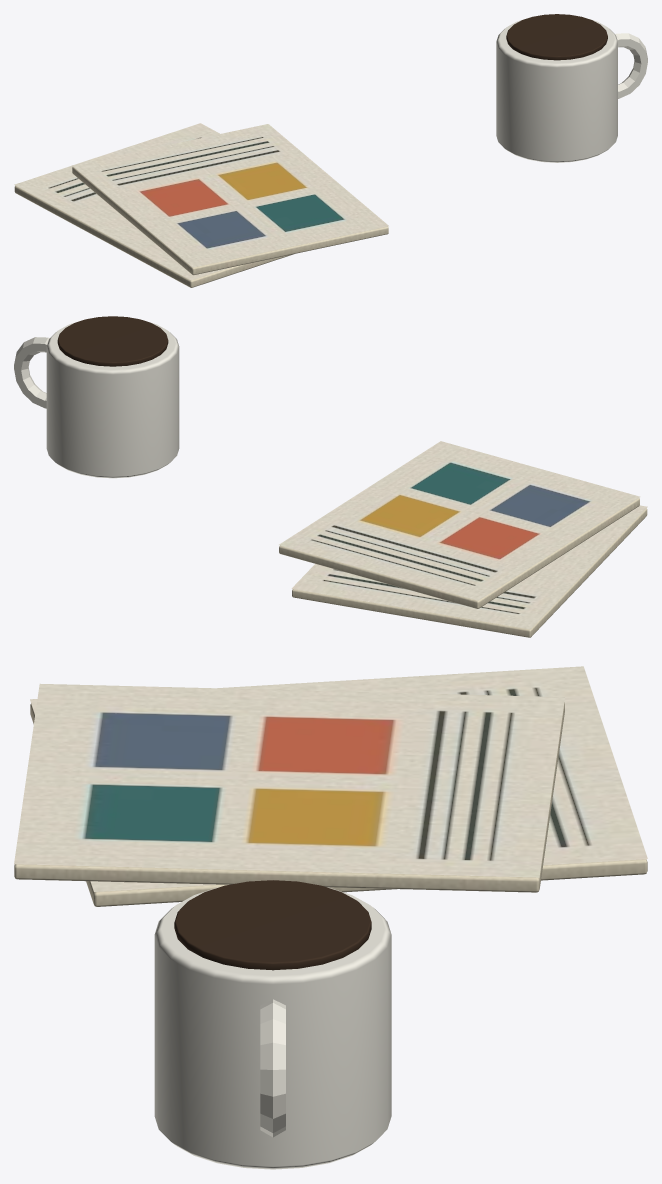
Rendered from coffee-table-dressed-v1.glb.
The picture shows the model from 3 angles, top to bottom: view 1: azimuth 30°, elevation 25°; view 2: azimuth 150°, elevation 25°; view 3: azimuth 270°, elevation 25°; orthographic projection. The views are drawn at different scales.
Visible parts, largest first — view 1: Printed stock edge; view 2: Printed stock edge; view 3: Printed stock edge.
Boxes of the visible parts, x1=… form: Printed stock edge: x1=14, y1=14, x2=647, y2=287; Printed stock edge: x1=14, y1=316, x2=647, y2=637; Printed stock edge: x1=14, y1=666, x2=647, y2=1169.
Size of the model in its own units: 0.7564 by 0.135 by 0.3854.
4 materials, 2 textured.
